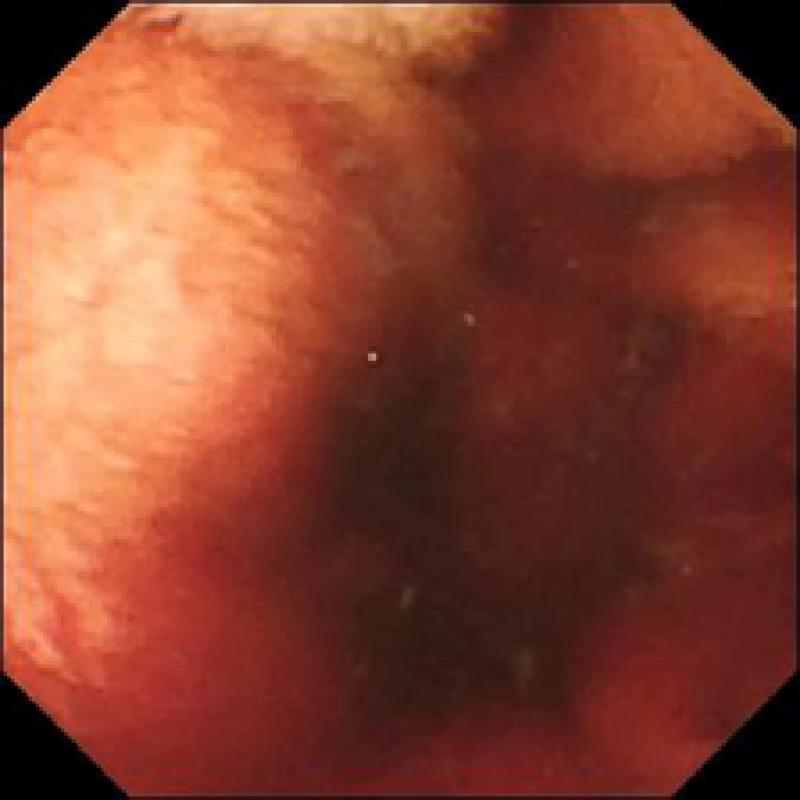bleeding: (3, 171, 800, 799)
